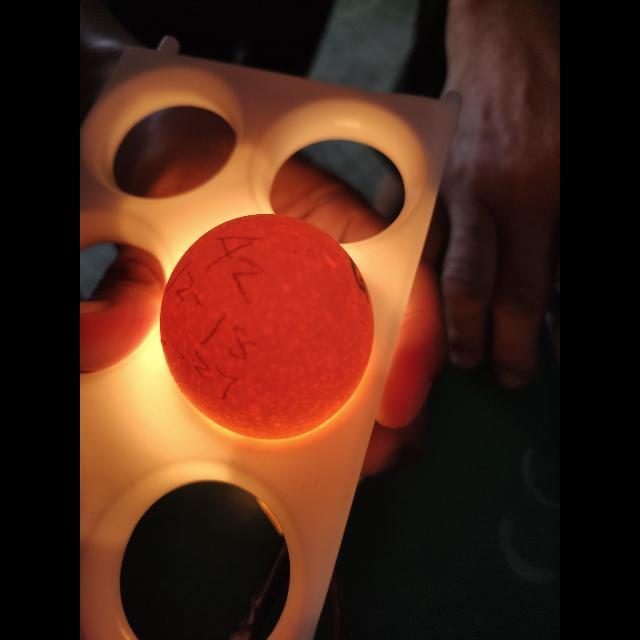Infertile: (156, 211, 372, 444)
